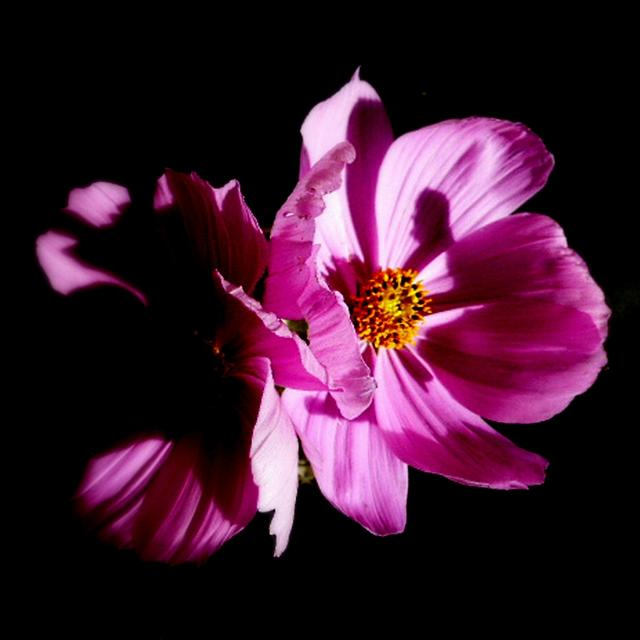Flower: (260, 60, 610, 538), (35, 176, 341, 568)
